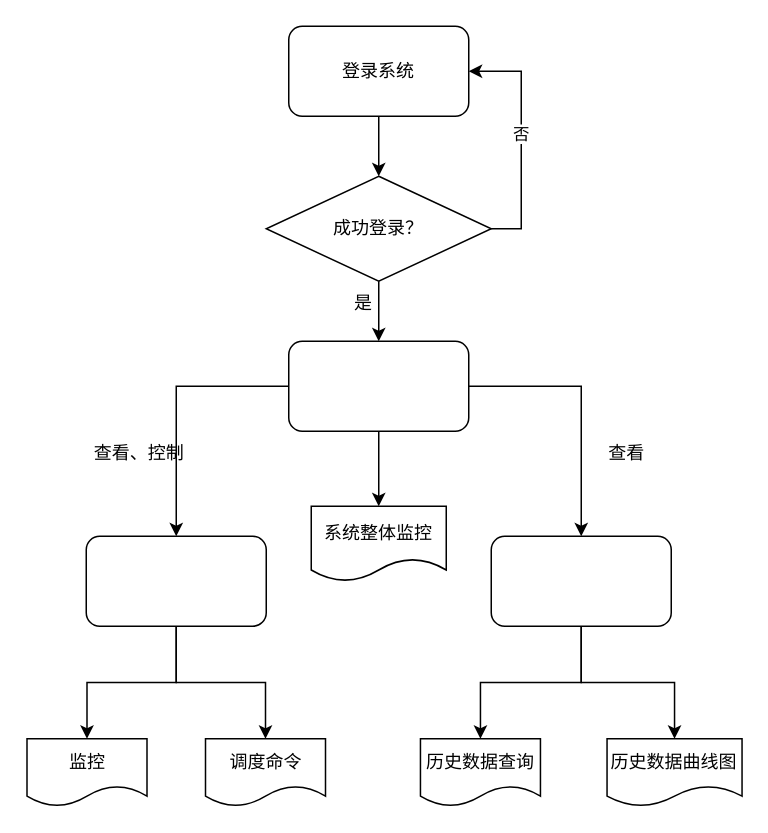
This 768x833 diagram has some shape labels left out. Here are the shapes that lost their labels. From the top down, the centre of each, then its label:
At point (378, 385): "系统主界面".
At point (175, 580): "风、光、储能详细监控界面".
At point (580, 580): "查询统计".
